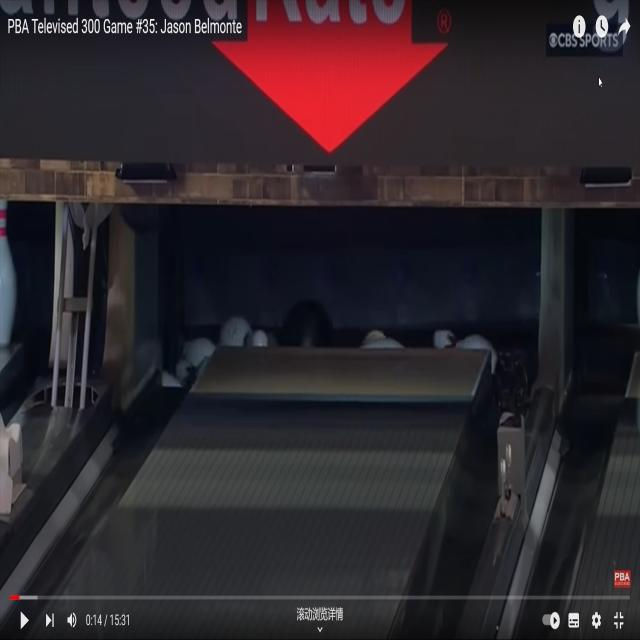alley: (108, 347, 489, 636)
